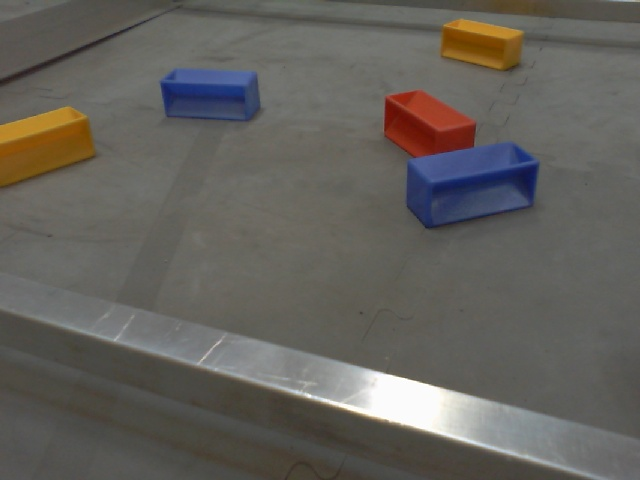BlueSample: (401, 143, 543, 230), (161, 63, 262, 128)
RedSample: (378, 87, 478, 159)
YellowSample: (1, 104, 97, 191), (435, 16, 526, 74)
